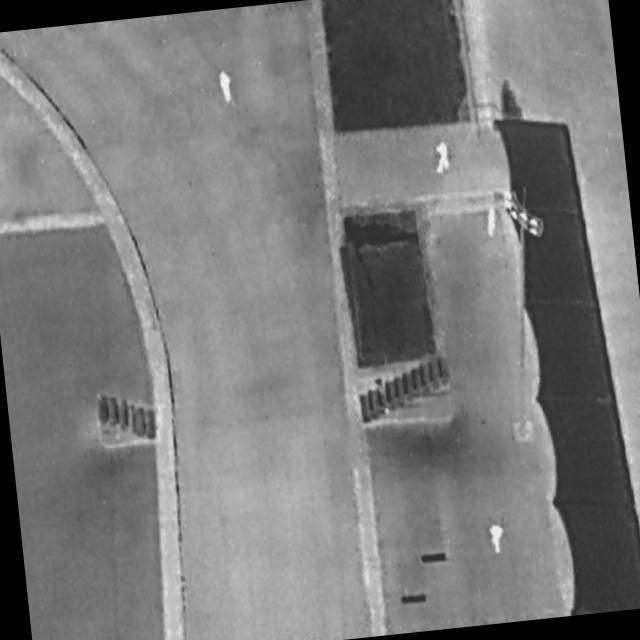person: (215, 66, 238, 108), (432, 139, 453, 176), (487, 522, 507, 556), (484, 206, 500, 236)
